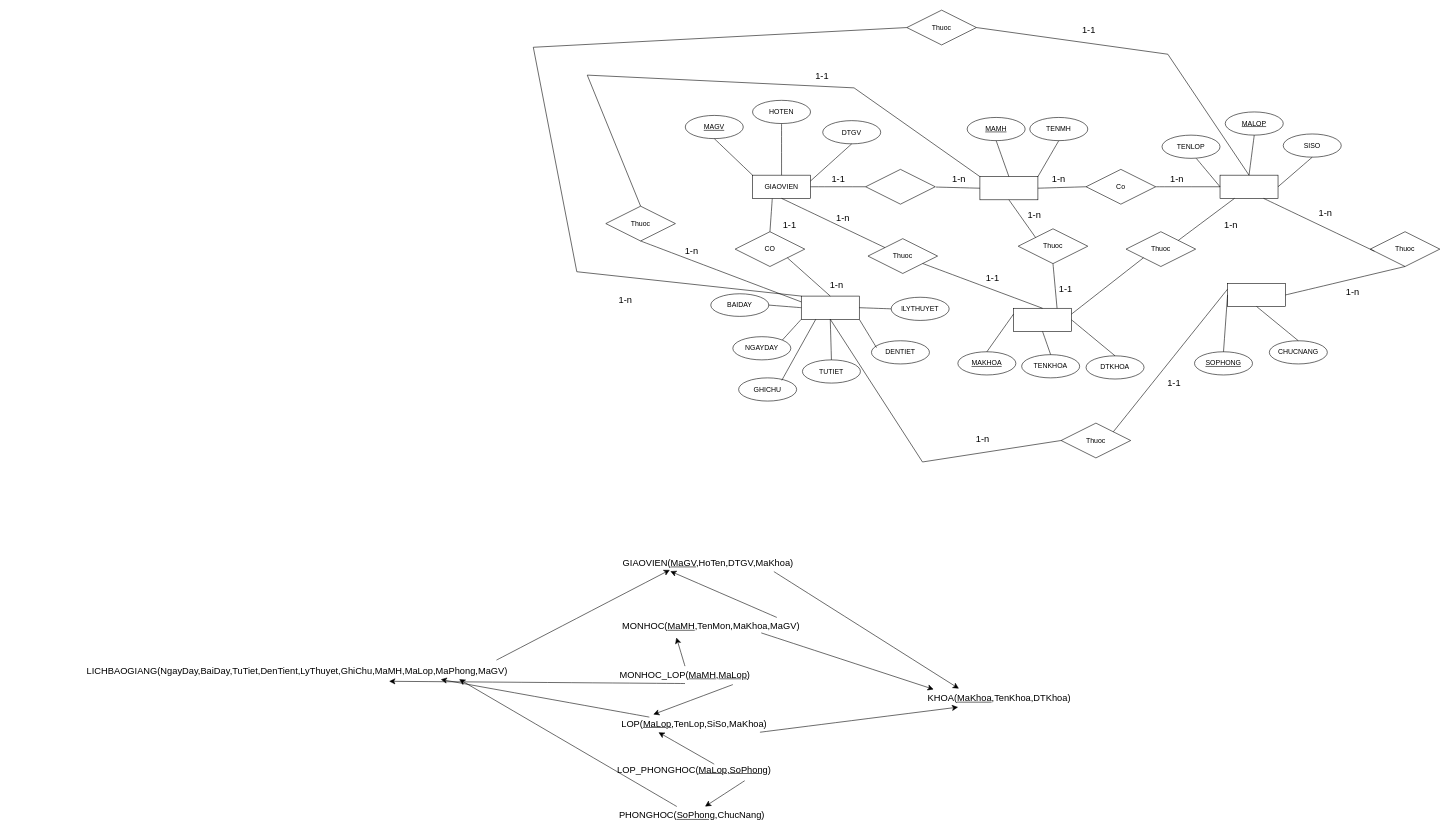
This 1450x834 diagram has some shape labels left out. Each missing label, with the centre of its shape:
Day: point (900, 186)
KHOA: point (1042, 319)
LICHBAOGIANG: point (830, 307)
LOP: point (1248, 186)
MONHOC: point (1008, 188)
PHONGHOC: point (1256, 295)
